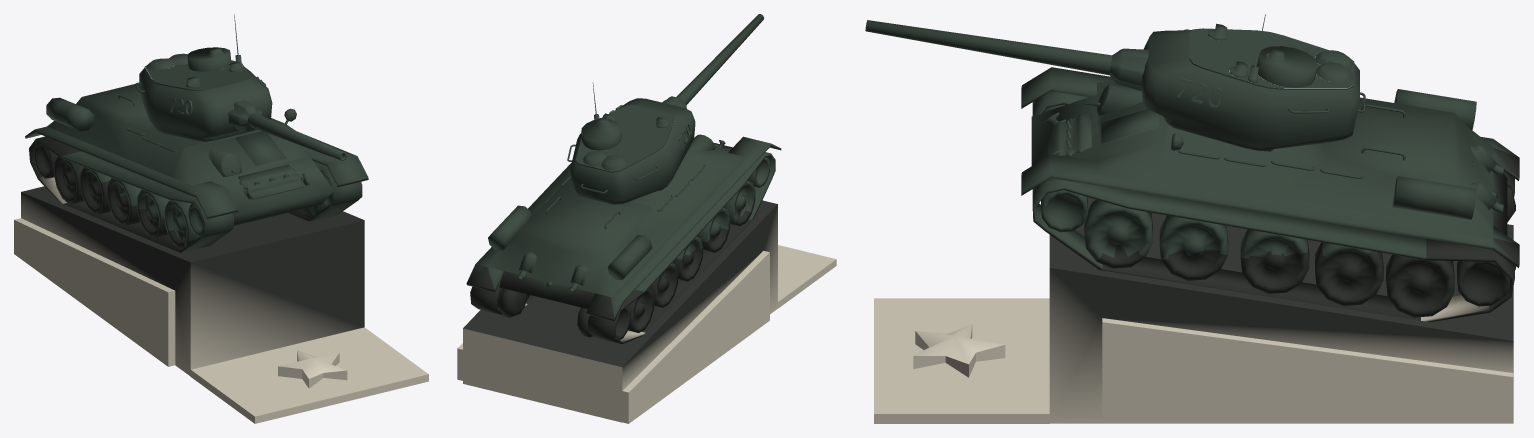
3 views of the same model, side by side, from view 1: azimuth 30°, elevation 25°; view 2: azimuth 150°, elevation 25°; view 3: azimuth 270°, elevation 25° (orthographic). The views are drawn at different scales.
Parts seen in each view (by area): view 1: typeMesh3:PIV; view 2: typeMesh3:PIV; view 3: typeMesh3:PIV.
Part boxes in pixels (<box>): typeMesh3:PIV: <box>14,14,428,423</box>; typeMesh3:PIV: <box>457,14,836,423</box>; typeMesh3:PIV: <box>865,14,1519,423</box>.
Size of the model in its own units: 758 by 1065 by 1680.
